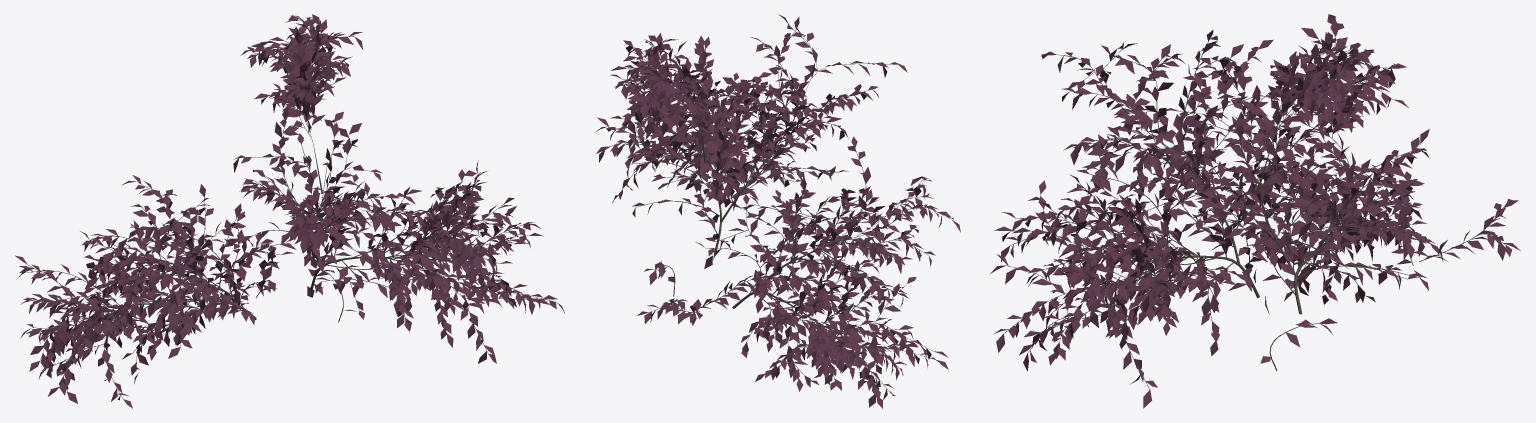
File: Tree 1.glb
3 renders of one model, left to right at view 1: azimuth 30°, elevation 25°; view 2: azimuth 150°, elevation 25°; view 3: azimuth 270°, elevation 25°, orthographic. The views are drawn at different scales.
Visible parts, largest first — view 1: Tree_Prunus-cerasifera_A_summer; view 2: Tree_Prunus-cerasifera_A_summer; view 3: Tree_Prunus-cerasifera_A_summer.
Boxes of the visible parts, x1,y1,x2,y2 form: Tree_Prunus-cerasifera_A_summer: (15, 14, 564, 408); Tree_Prunus-cerasifera_A_summer: (595, 14, 960, 408); Tree_Prunus-cerasifera_A_summer: (990, 14, 1520, 408).
Size of the model in its own units: 5.51 by 4.04 by 5.01.
